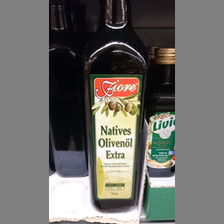oil: (84, 1, 146, 213)
